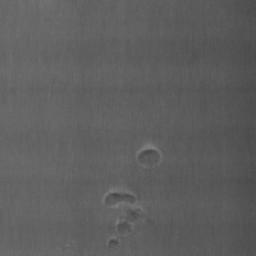Rolled pit: (103, 187, 137, 208), (136, 144, 162, 168), (116, 221, 132, 234), (127, 208, 142, 219), (107, 238, 120, 247)
